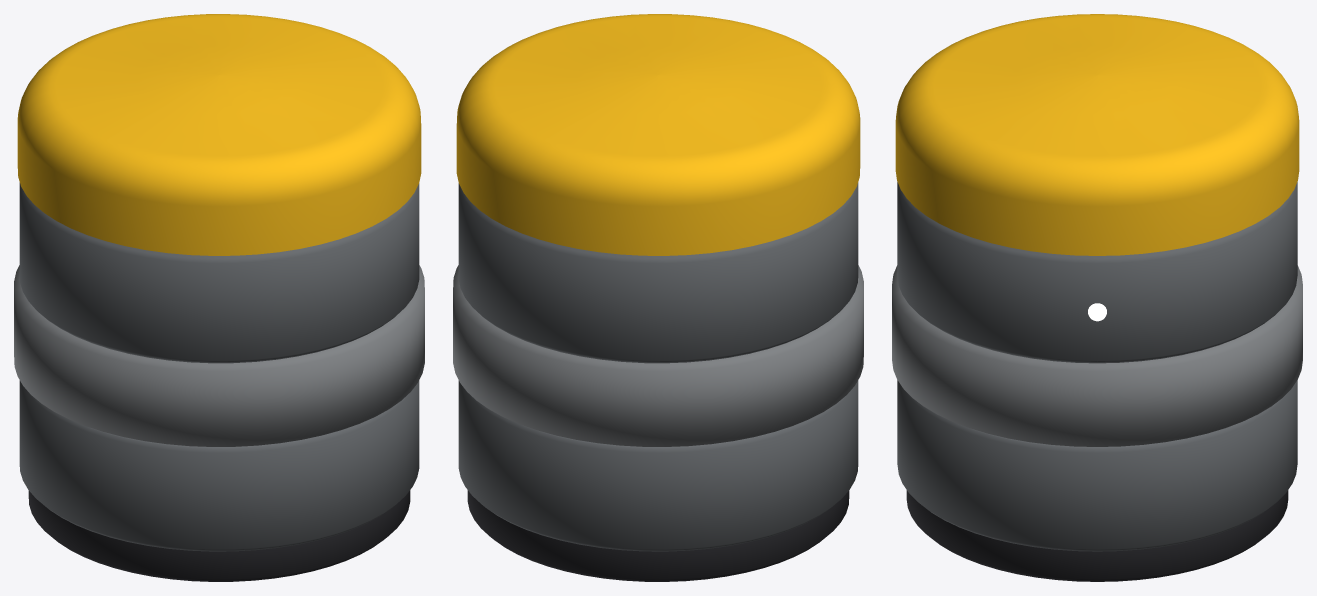
File: capteur.glb
3 renders of one model, left to right at view 1: azimuth 30°, elevation 25°; view 2: azimuth 150°, elevation 25°; view 3: azimuth 270°, elevation 25°, orthographic.
Parts seen in each view (by area): view 1: corps, capot, molette, base; view 2: corps, capot, molette, base; view 3: corps, capot, molette, base.
Part boxes in pixels (bbox=[...]): corps: bbox=[19, 182, 419, 551]; capot: bbox=[17, 14, 421, 255]; molette: bbox=[14, 265, 424, 446]; base: bbox=[28, 490, 410, 581]; corps: bbox=[458, 182, 858, 551]; capot: bbox=[456, 14, 860, 255]; molette: bbox=[453, 265, 863, 446]; base: bbox=[467, 490, 849, 581]; corps: bbox=[897, 182, 1297, 551]; capot: bbox=[895, 14, 1299, 255]; molette: bbox=[892, 265, 1302, 446]; base: bbox=[906, 490, 1288, 581].
Size of the model in its own units: 0.0455 by 0.052 by 0.0452.
